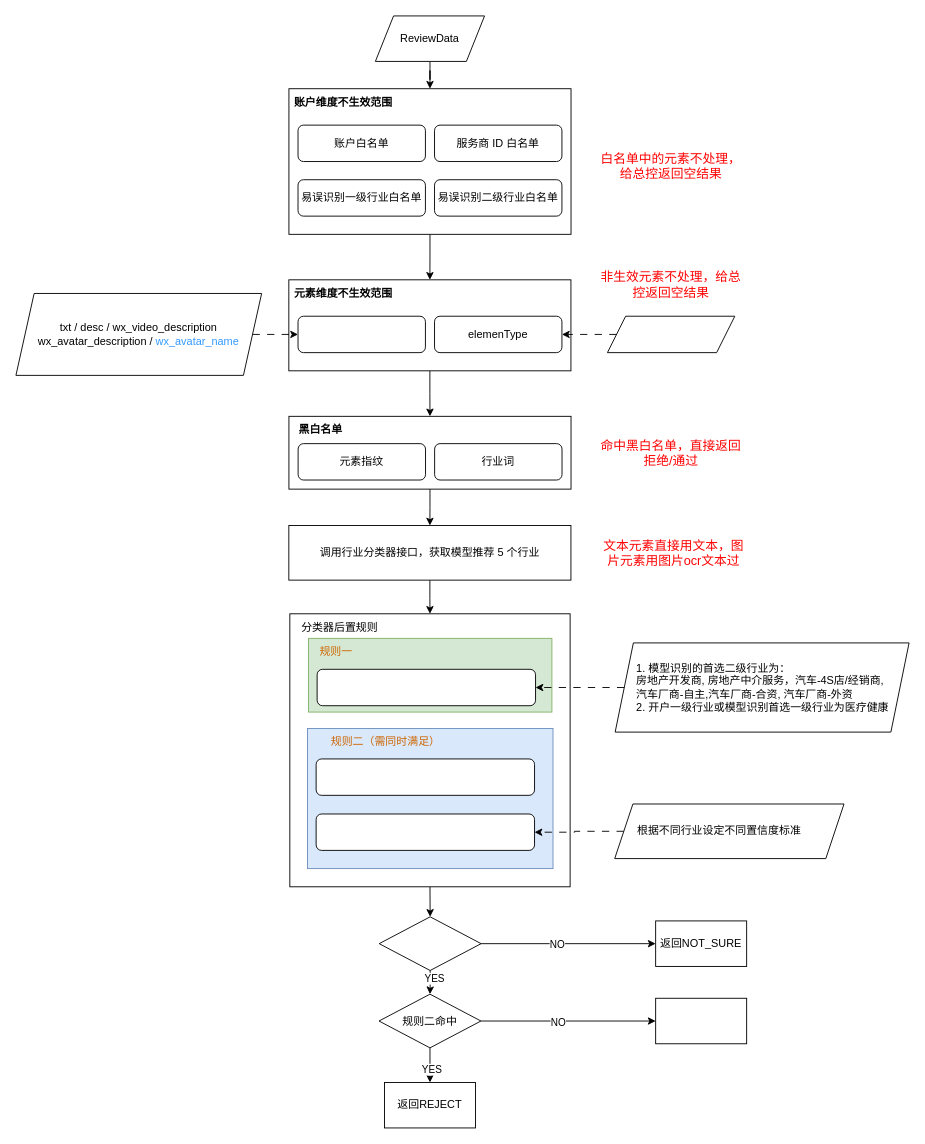
The diagram is 925 pixels wide and 1144 high, and some of its shapes have lost their labels. Each missing label, with the centre of its shape:
"elementKey" goes at point 361,334.
"TEXT / IMAGE" goes at point 671,334.
"top5一级行业不一致" goes at point 425,776.
"覆盖行业名单规则" goes at point 426,687.
"规则一命中" goes at point 429,943.
"返回PASS" goes at point 701,1020.
"首选一级行业置信度满足要求" goes at point 425,831.
